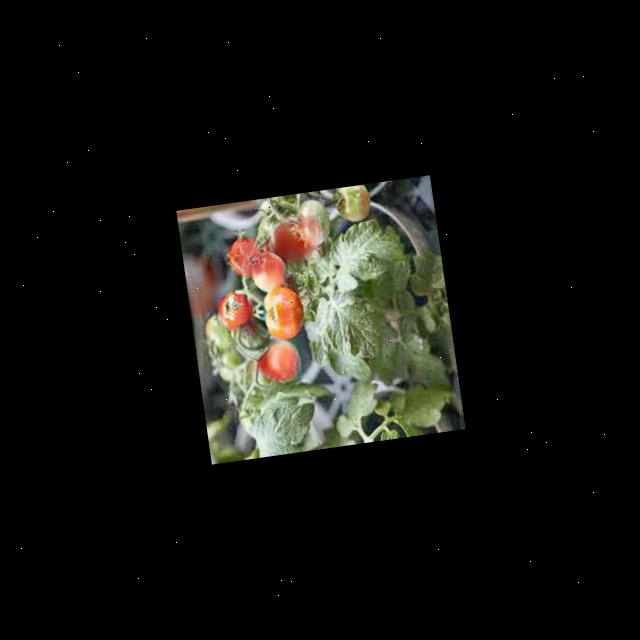tomato: (261, 284, 305, 342), (216, 290, 254, 332)
